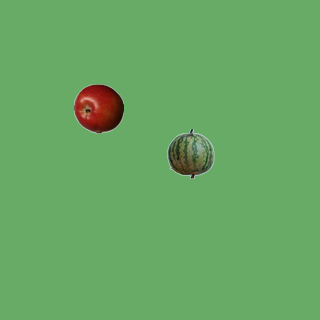Apple Braeburn: (73, 83, 123, 133)
Watermelon: (165, 128, 215, 178)
